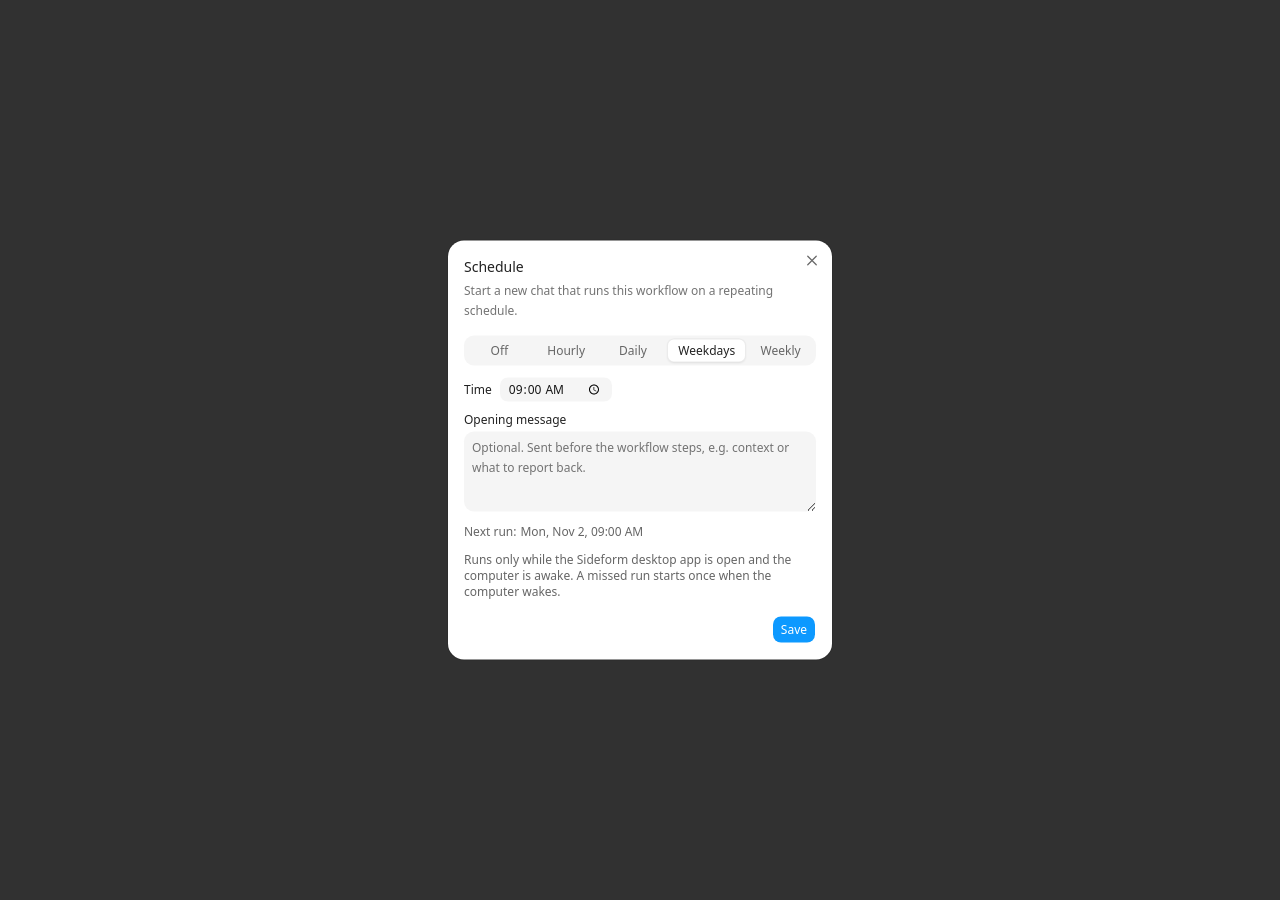
Test: ScheduleDialog › shows an error and disables Save for the minute 60
Click the radio button labelled "Hourly". click: x=566, y=350
box: [547,342,585,359]
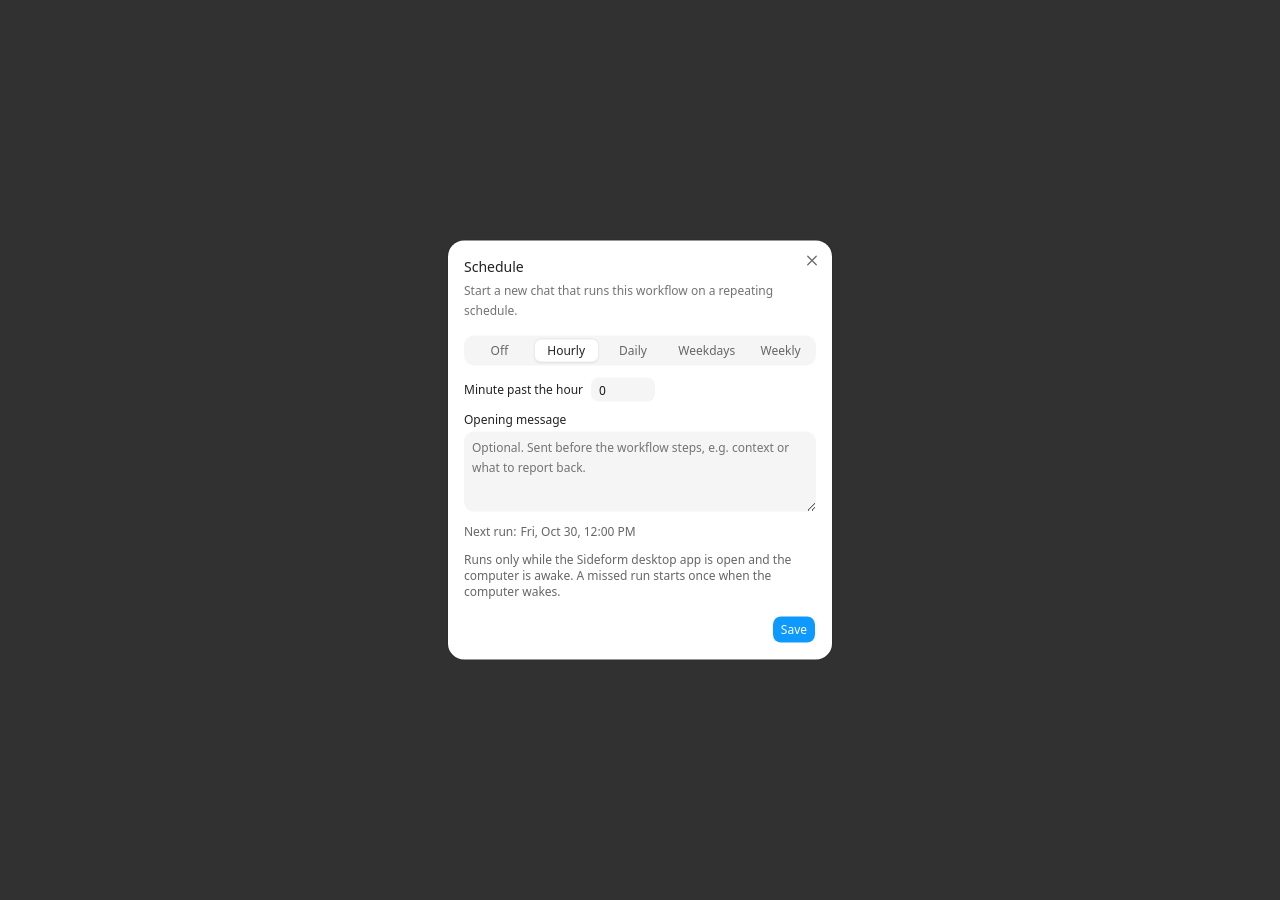
Replace the text in the number field labelled "Minute past the hour" with "60". click: x=623, y=390
box: [591,378,655,402]
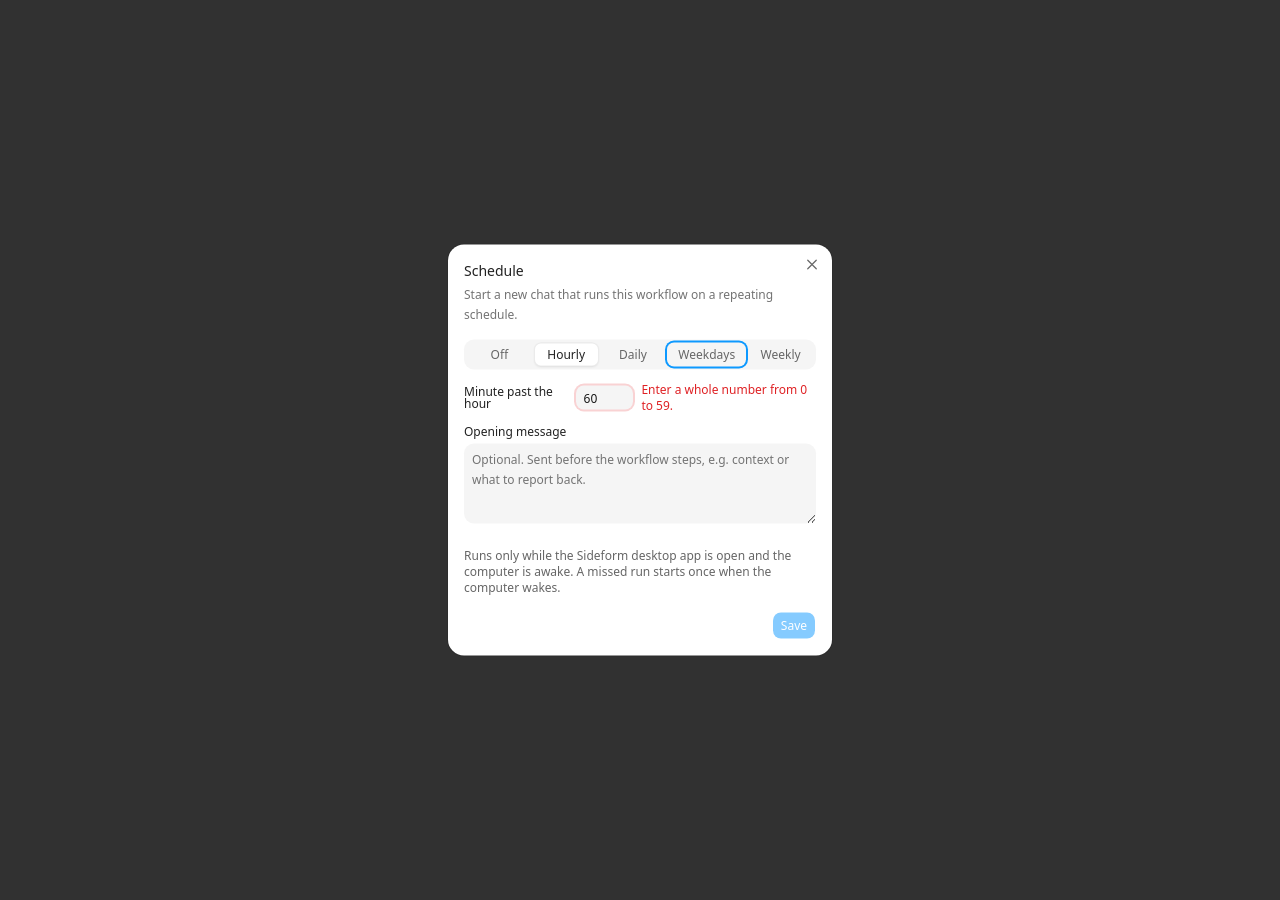
Expected: the message shows "0 to 59", [641,380,807,414]
Expected: the button "Save" is disabled, [772,612,816,640]
